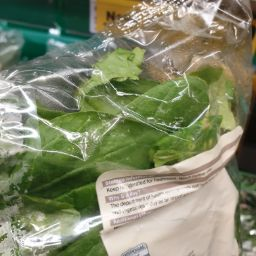Spinach: (27, 102, 205, 156), (14, 119, 93, 210)
